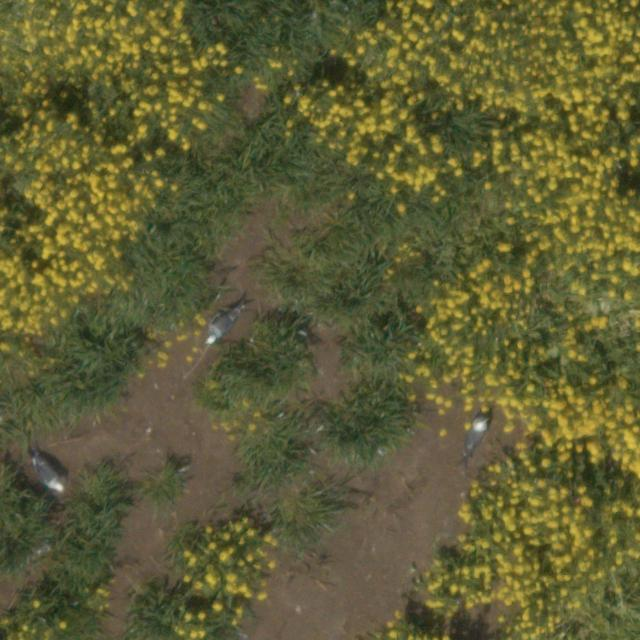umineko: (208, 302, 244, 343), (37, 460, 62, 490), (466, 422, 486, 453)
